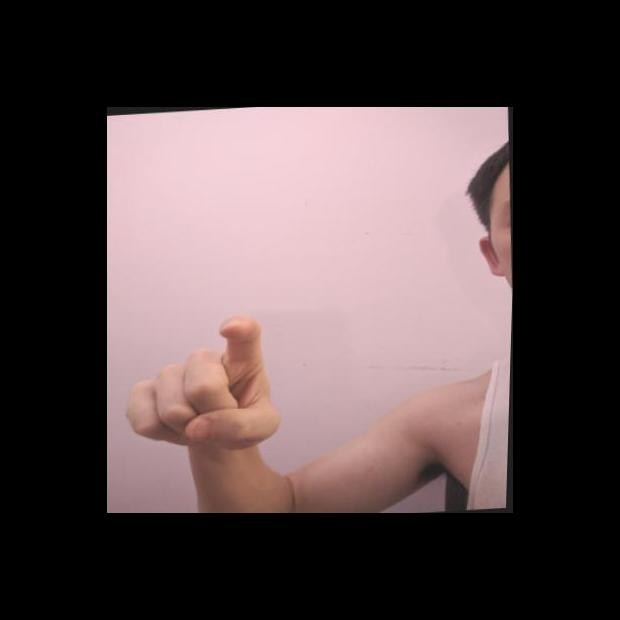Y: (117, 309, 289, 461)
